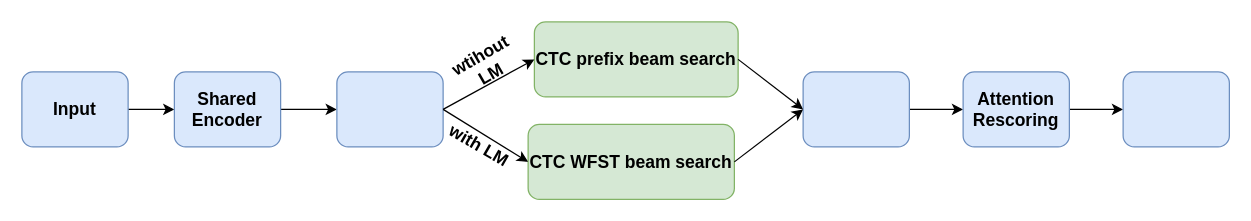
The diagram is 1251 pixels wide and 221 high, and some of its shapes have lost their labels. The box of each missing label's shape, as (x1, y1, x2, y2) in pixels:
CTC likelihood: (336, 71, 443, 147)
N-Best: (802, 71, 909, 147)
Output: (1122, 71, 1229, 147)
